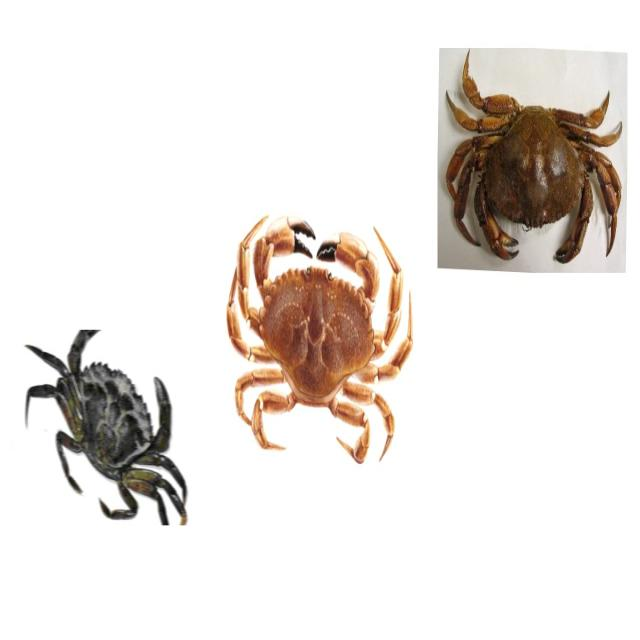egc: (23, 326, 192, 524)
jonah_crab: (227, 211, 413, 458)
rock_crab: (444, 50, 626, 264)
